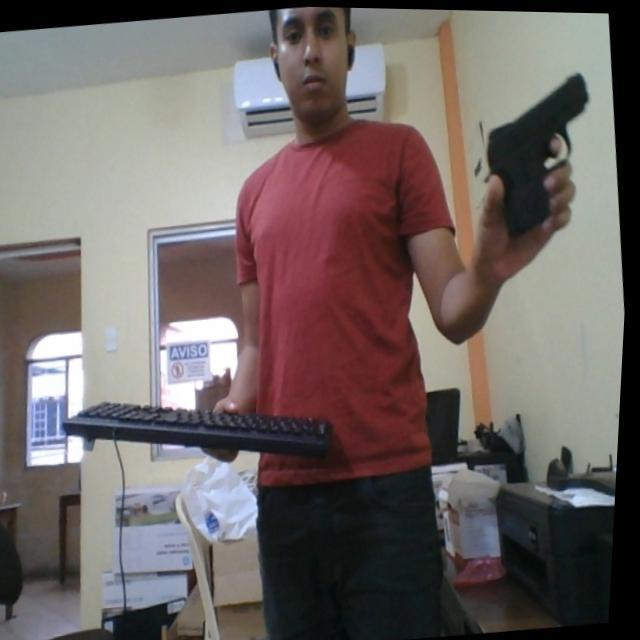weapon: (464, 64, 606, 240)
